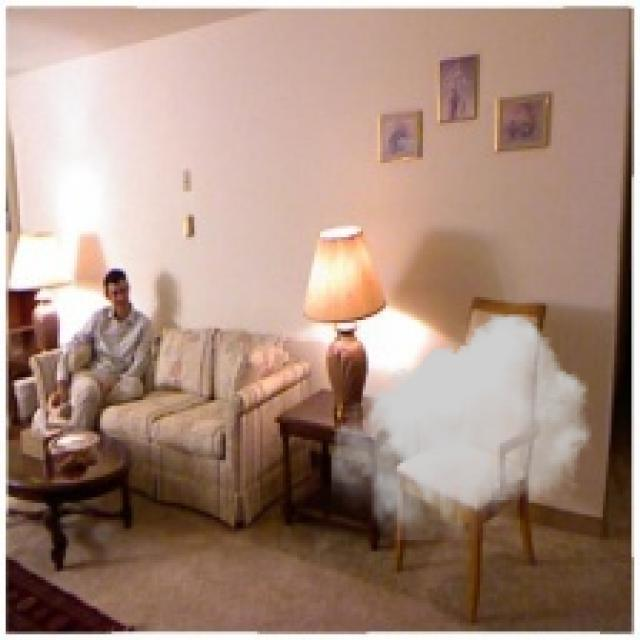Smoke: (332, 314, 592, 540)
